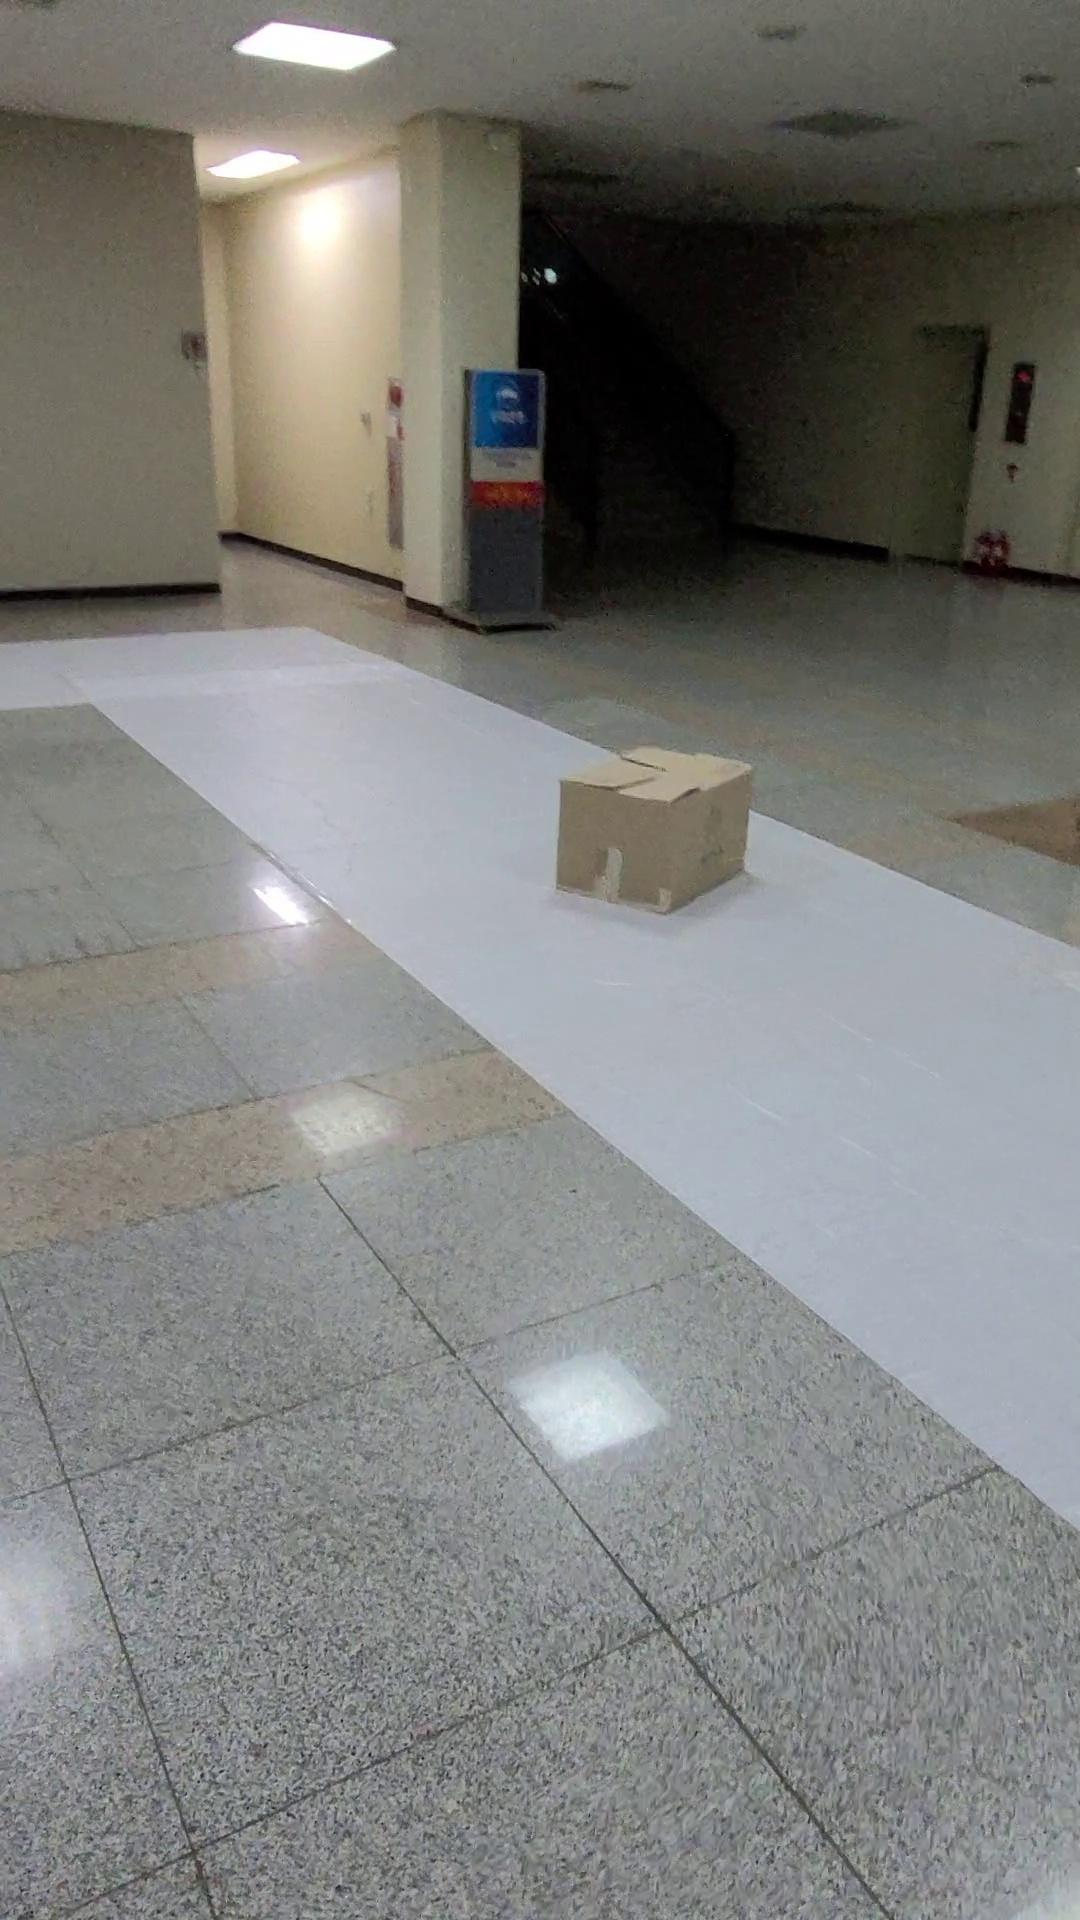Box: (526, 717, 793, 943)
